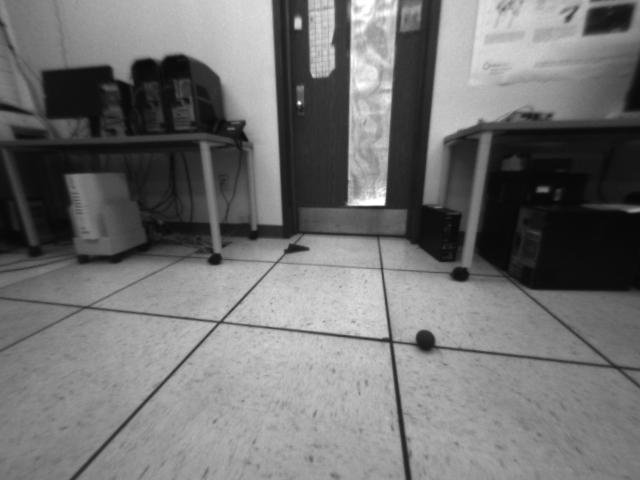dogtoy: (409, 322, 442, 353)
